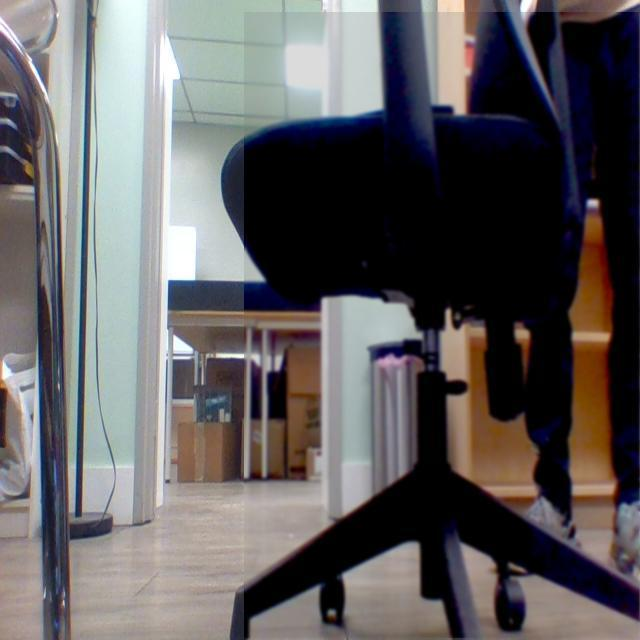chair: (244, 12, 640, 640)
